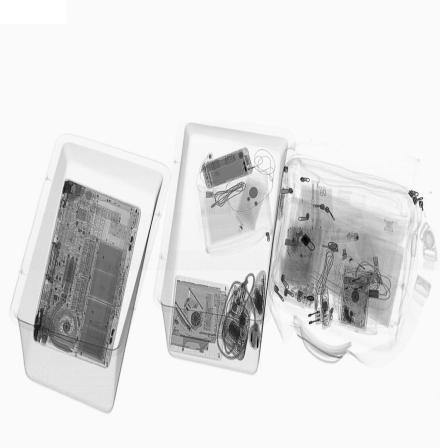Lighter: (331, 231, 359, 243)
